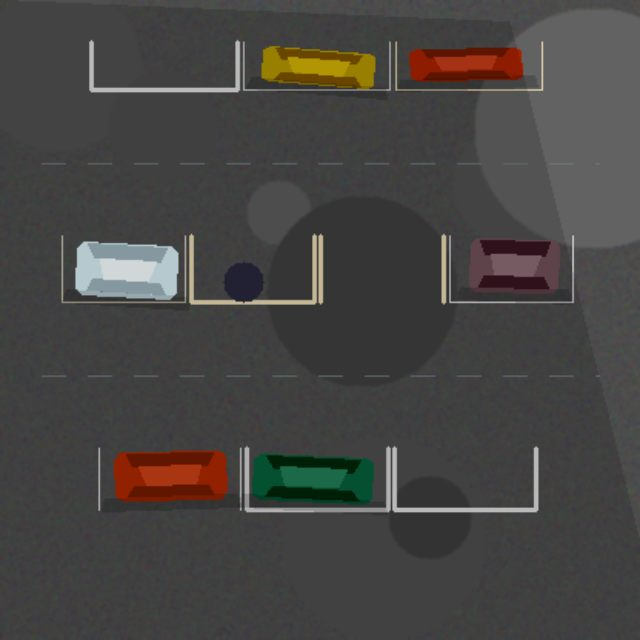space-empty: (394, 448, 535, 509), (191, 235, 314, 302), (320, 235, 443, 302), (91, 42, 237, 89)
space-occupied: (98, 448, 240, 509), (246, 448, 388, 509), (62, 235, 185, 302), (449, 235, 572, 302), (395, 42, 542, 89), (243, 42, 389, 89)
